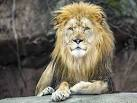lion: (36, 8, 120, 102)
